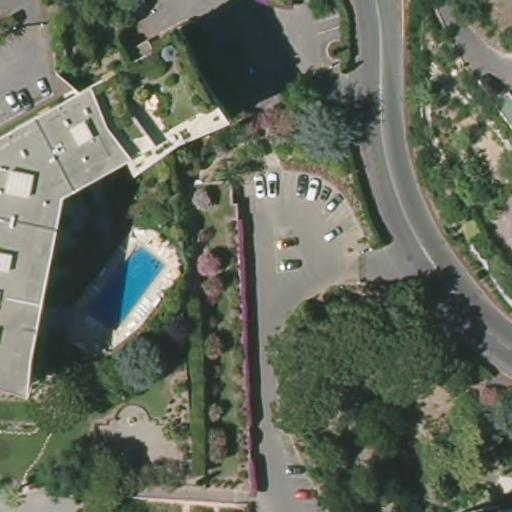pool: (80, 240, 164, 333)
